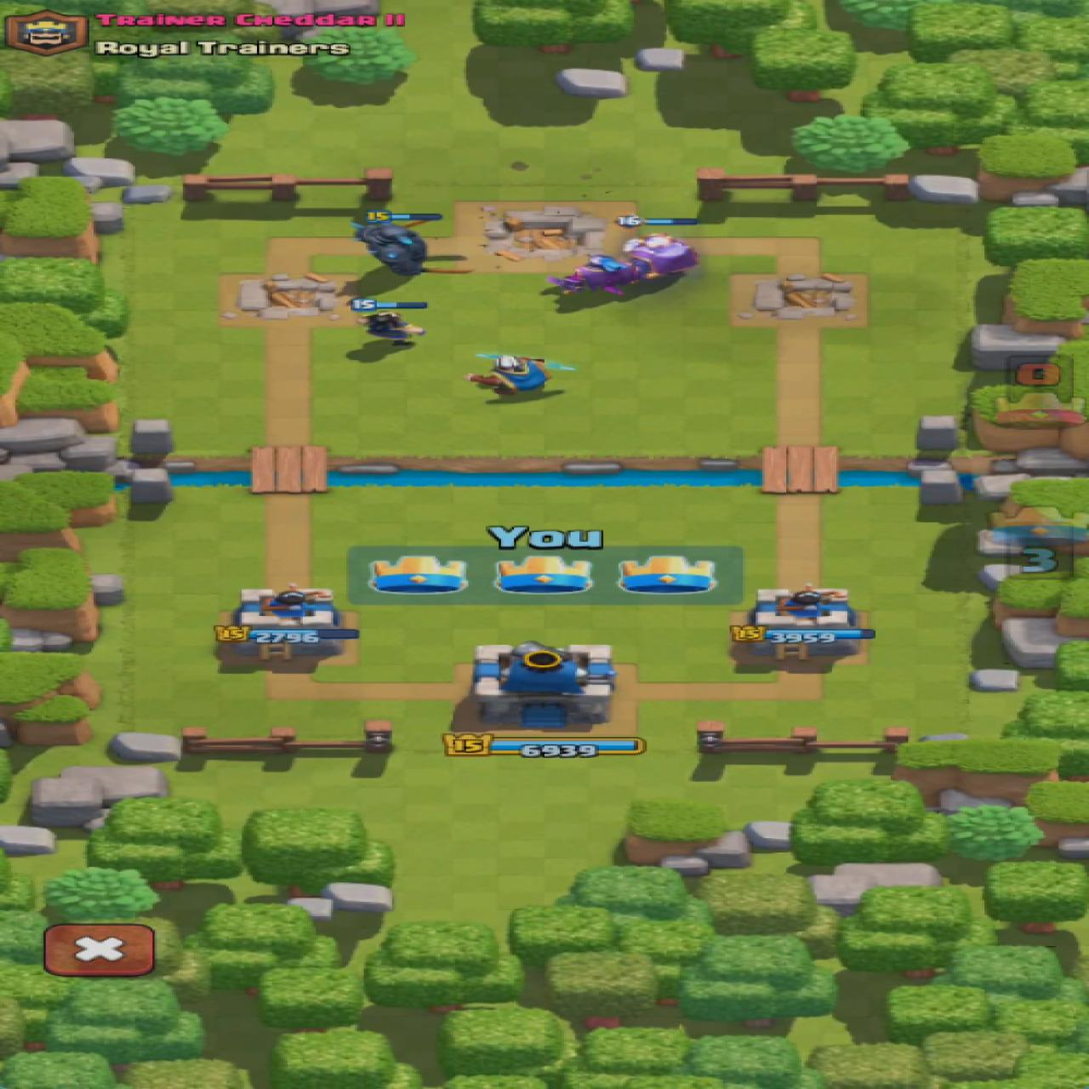Player-ThreeCrown: (342, 524, 745, 607)
